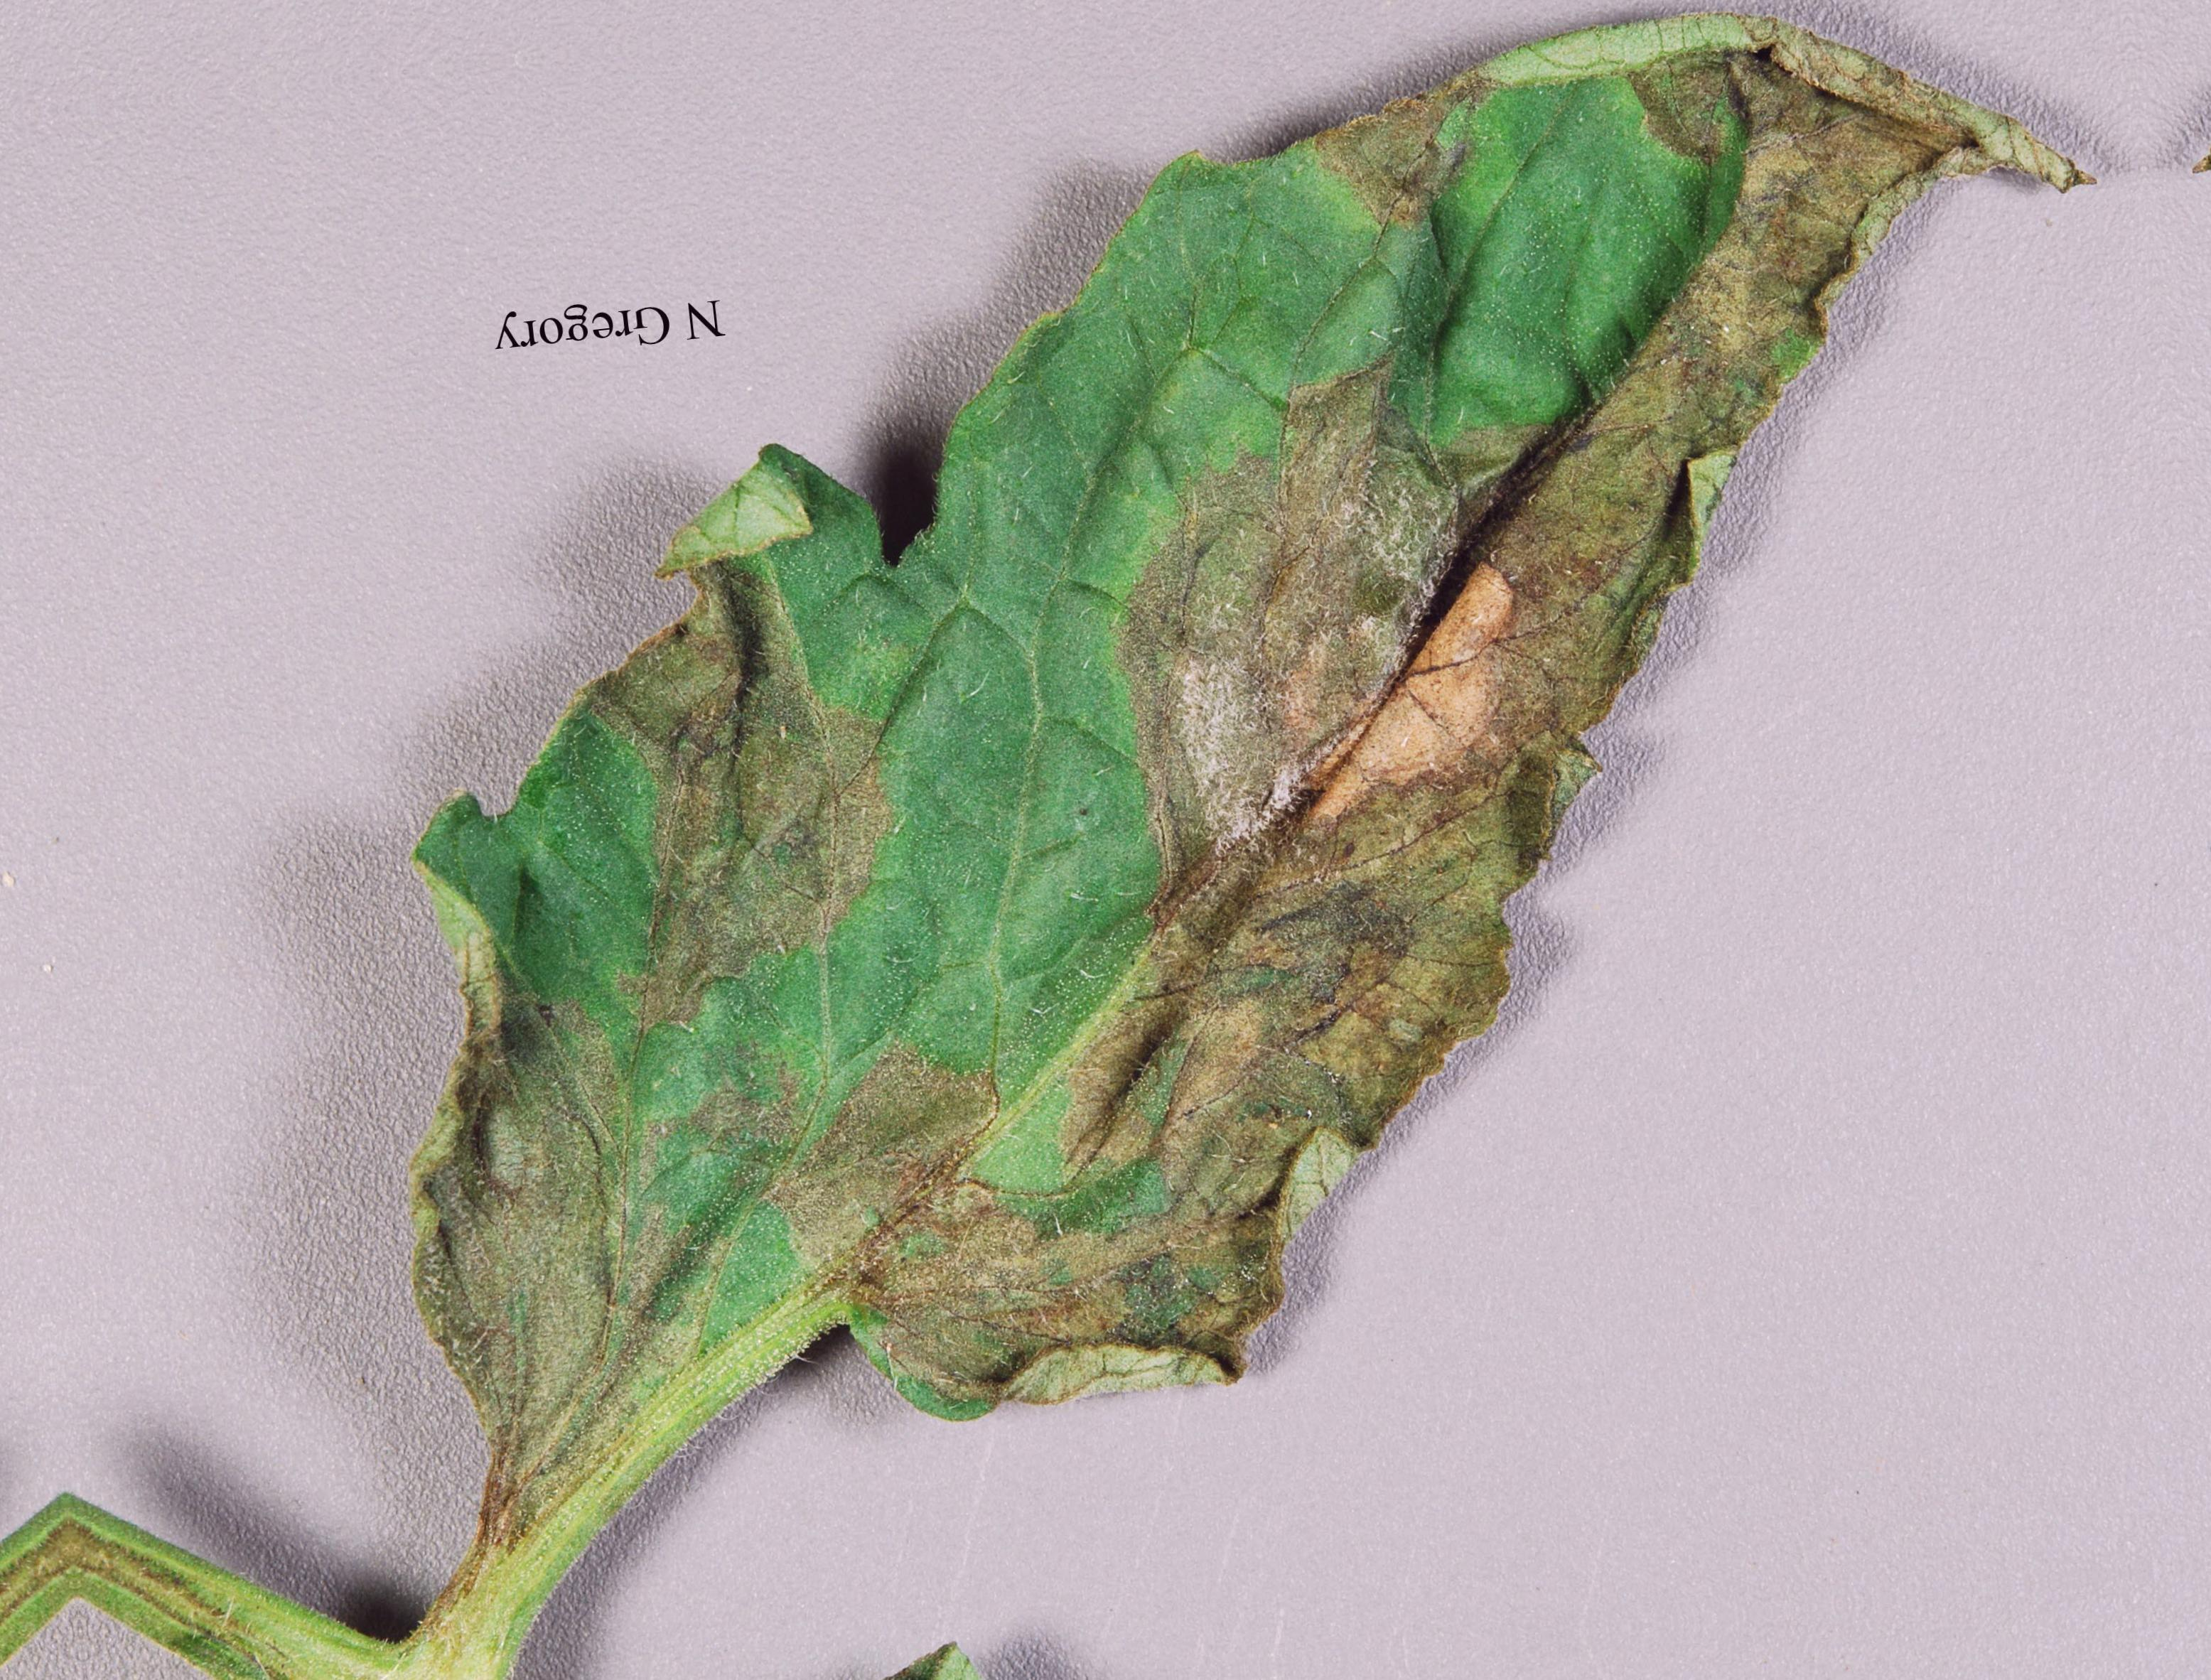Tomato leaf late blight: (323, 0, 2211, 1627)
